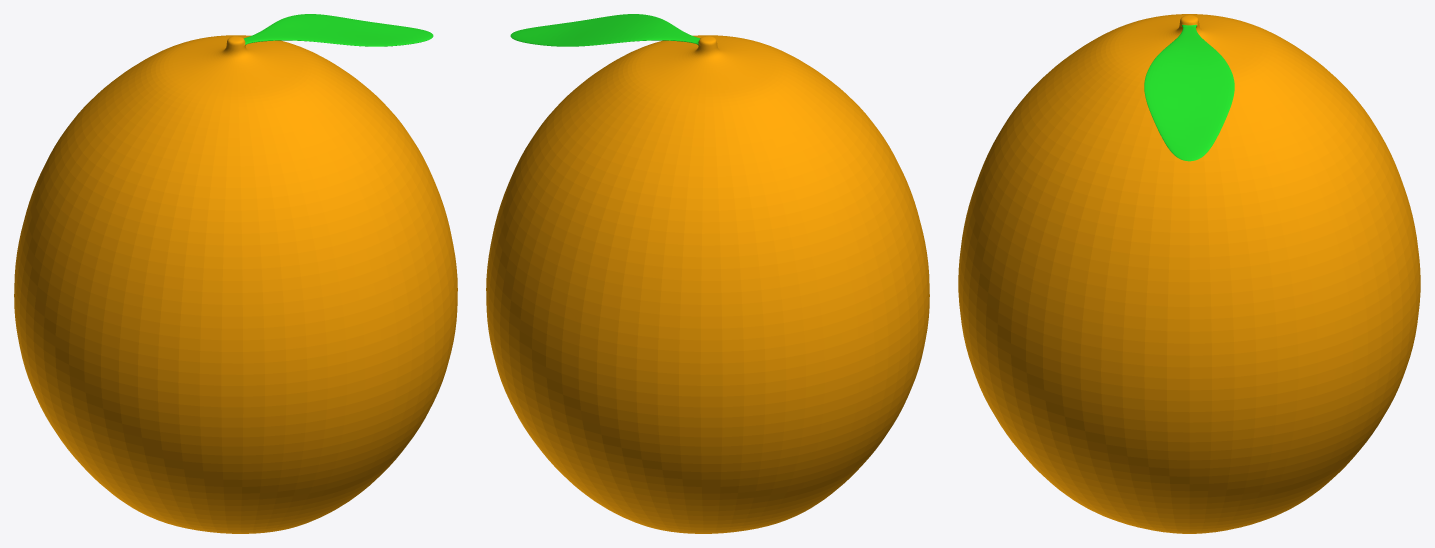
The model's file is orange.fbx.
The picture shows the model from 3 angles, left to right: view 1: azimuth 30°, elevation 25°; view 2: azimuth 150°, elevation 25°; view 3: azimuth 270°, elevation 25°; orthographic projection. The views are drawn at different scales.
Parts seen in each view (by area): view 1: Orange; view 2: Orange; view 3: Orange.
Boxes of the visible parts, <box> form: Orange: <box>14,14,457,533</box>; Orange: <box>486,14,929,533</box>; Orange: <box>958,14,1420,533</box>.
Size of the model in its own units: 7.2 by 8.23 by 7.14.
